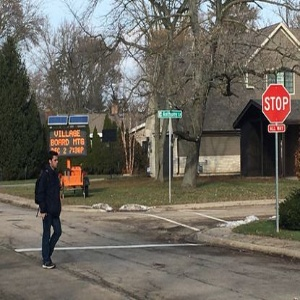stop: (261, 84, 291, 123)
